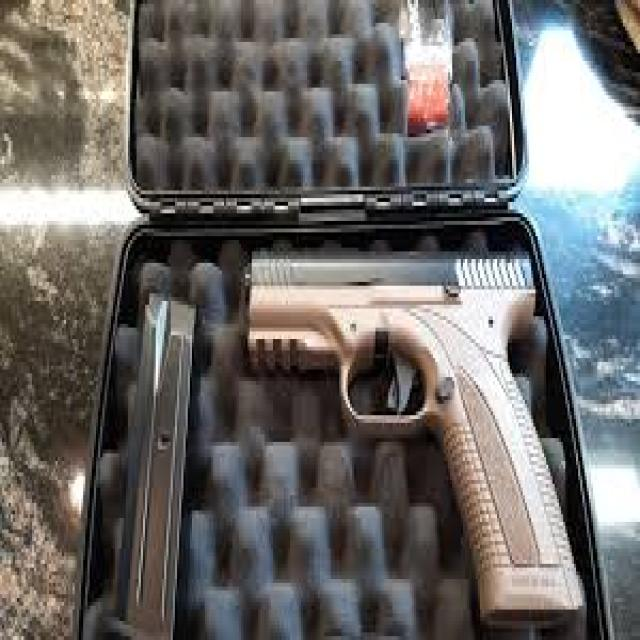Gun: (252, 231, 584, 621)
